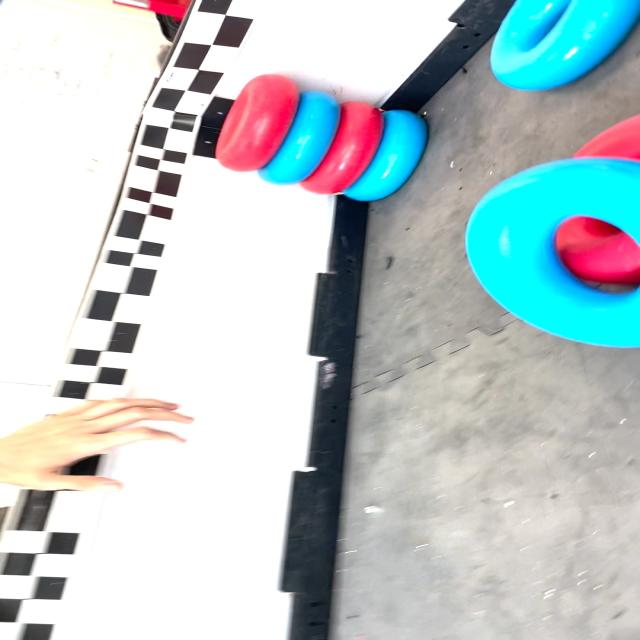Blue-Ring: (466, 158, 640, 348), (491, 0, 639, 90), (342, 110, 427, 201), (258, 91, 340, 185), (544, 198, 549, 200)
Red-Ring: (216, 74, 298, 171), (300, 101, 382, 194)
